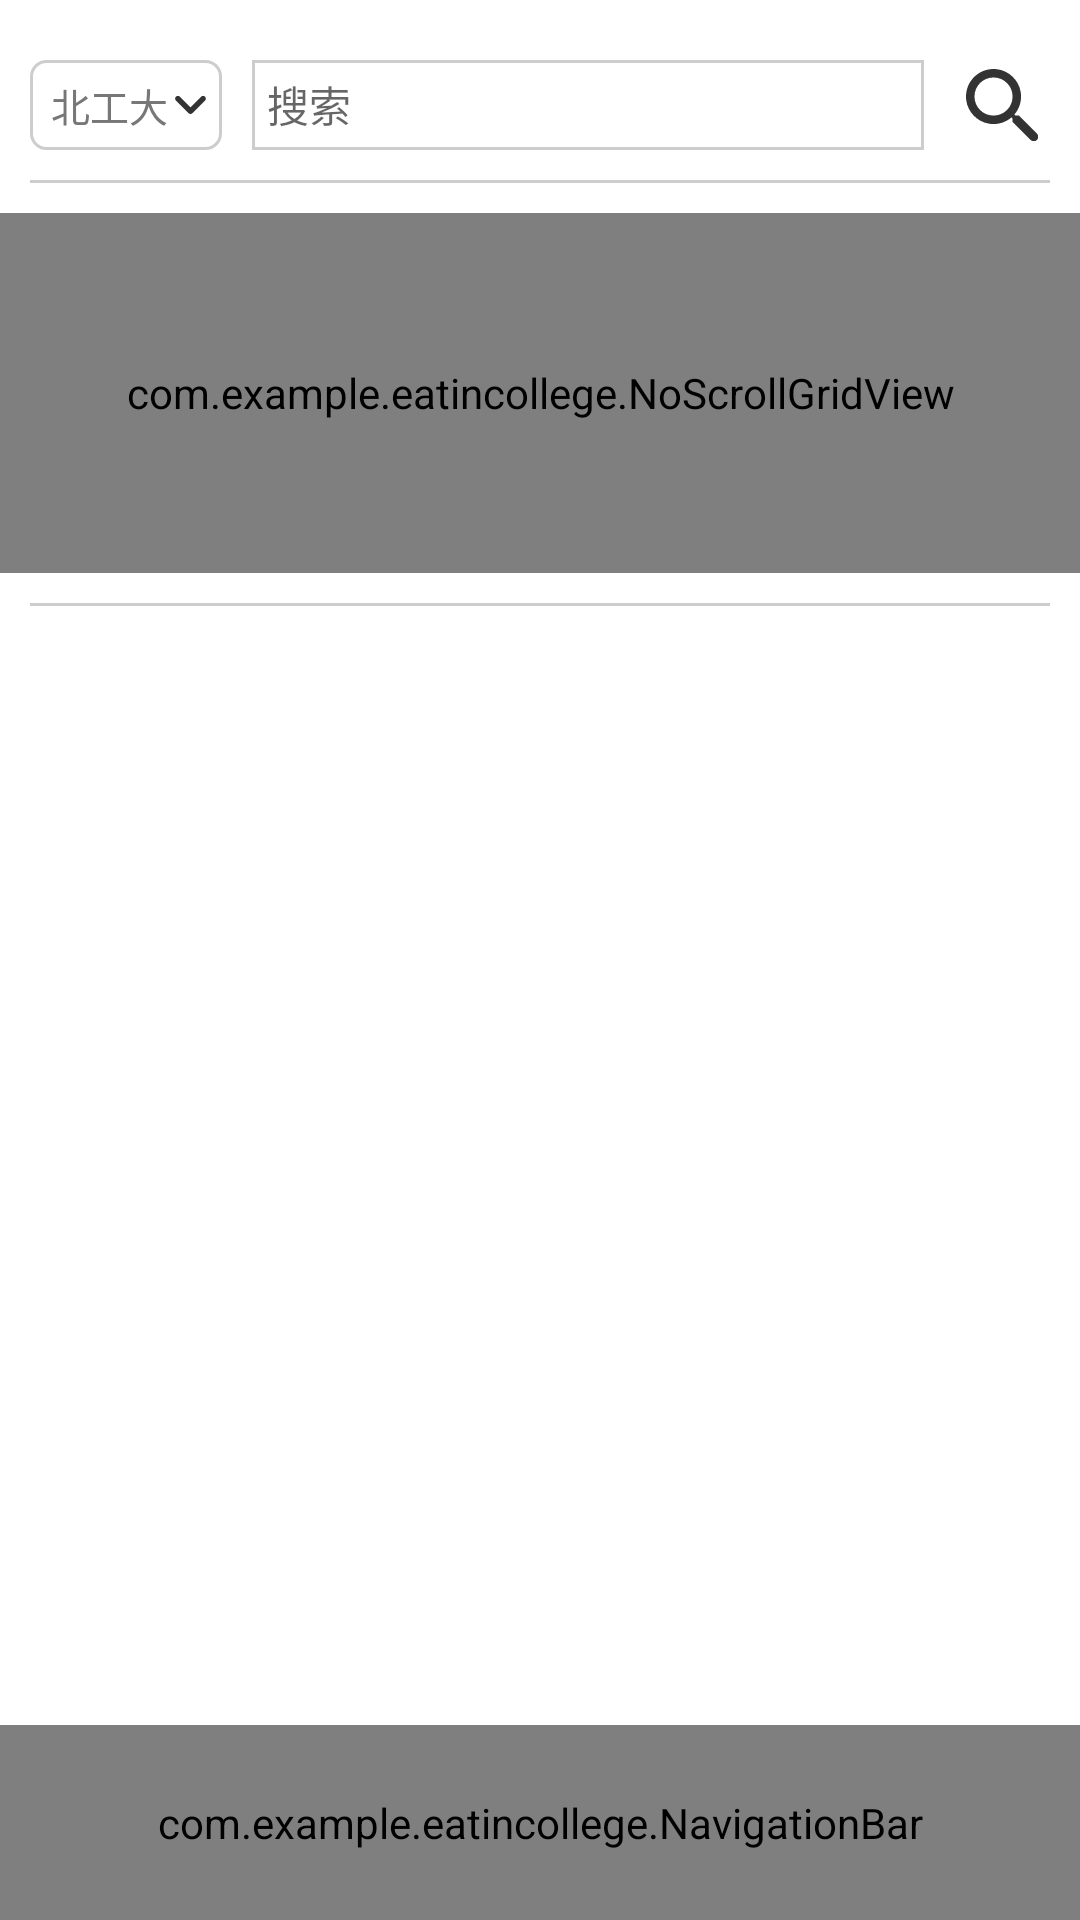

Icon click points for this 1080 x 1920 phone screenshot, format point (x, y):
drop down: point (190, 105)
search: point (1002, 105)
